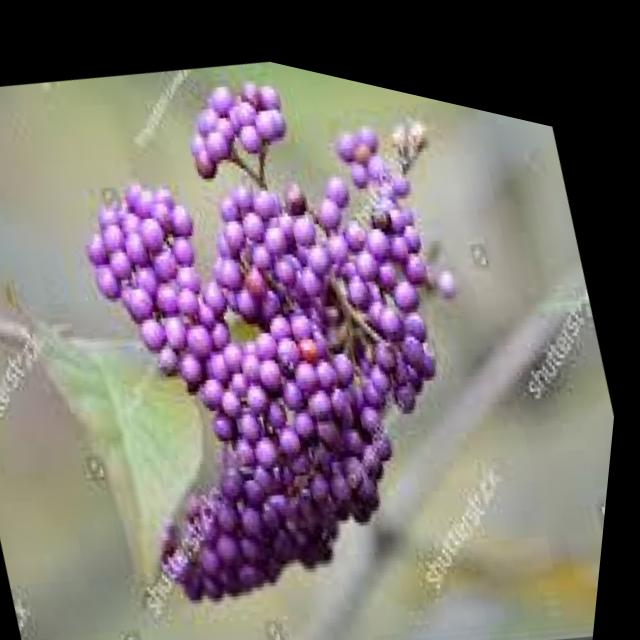Flower: (15, 10, 557, 640)
